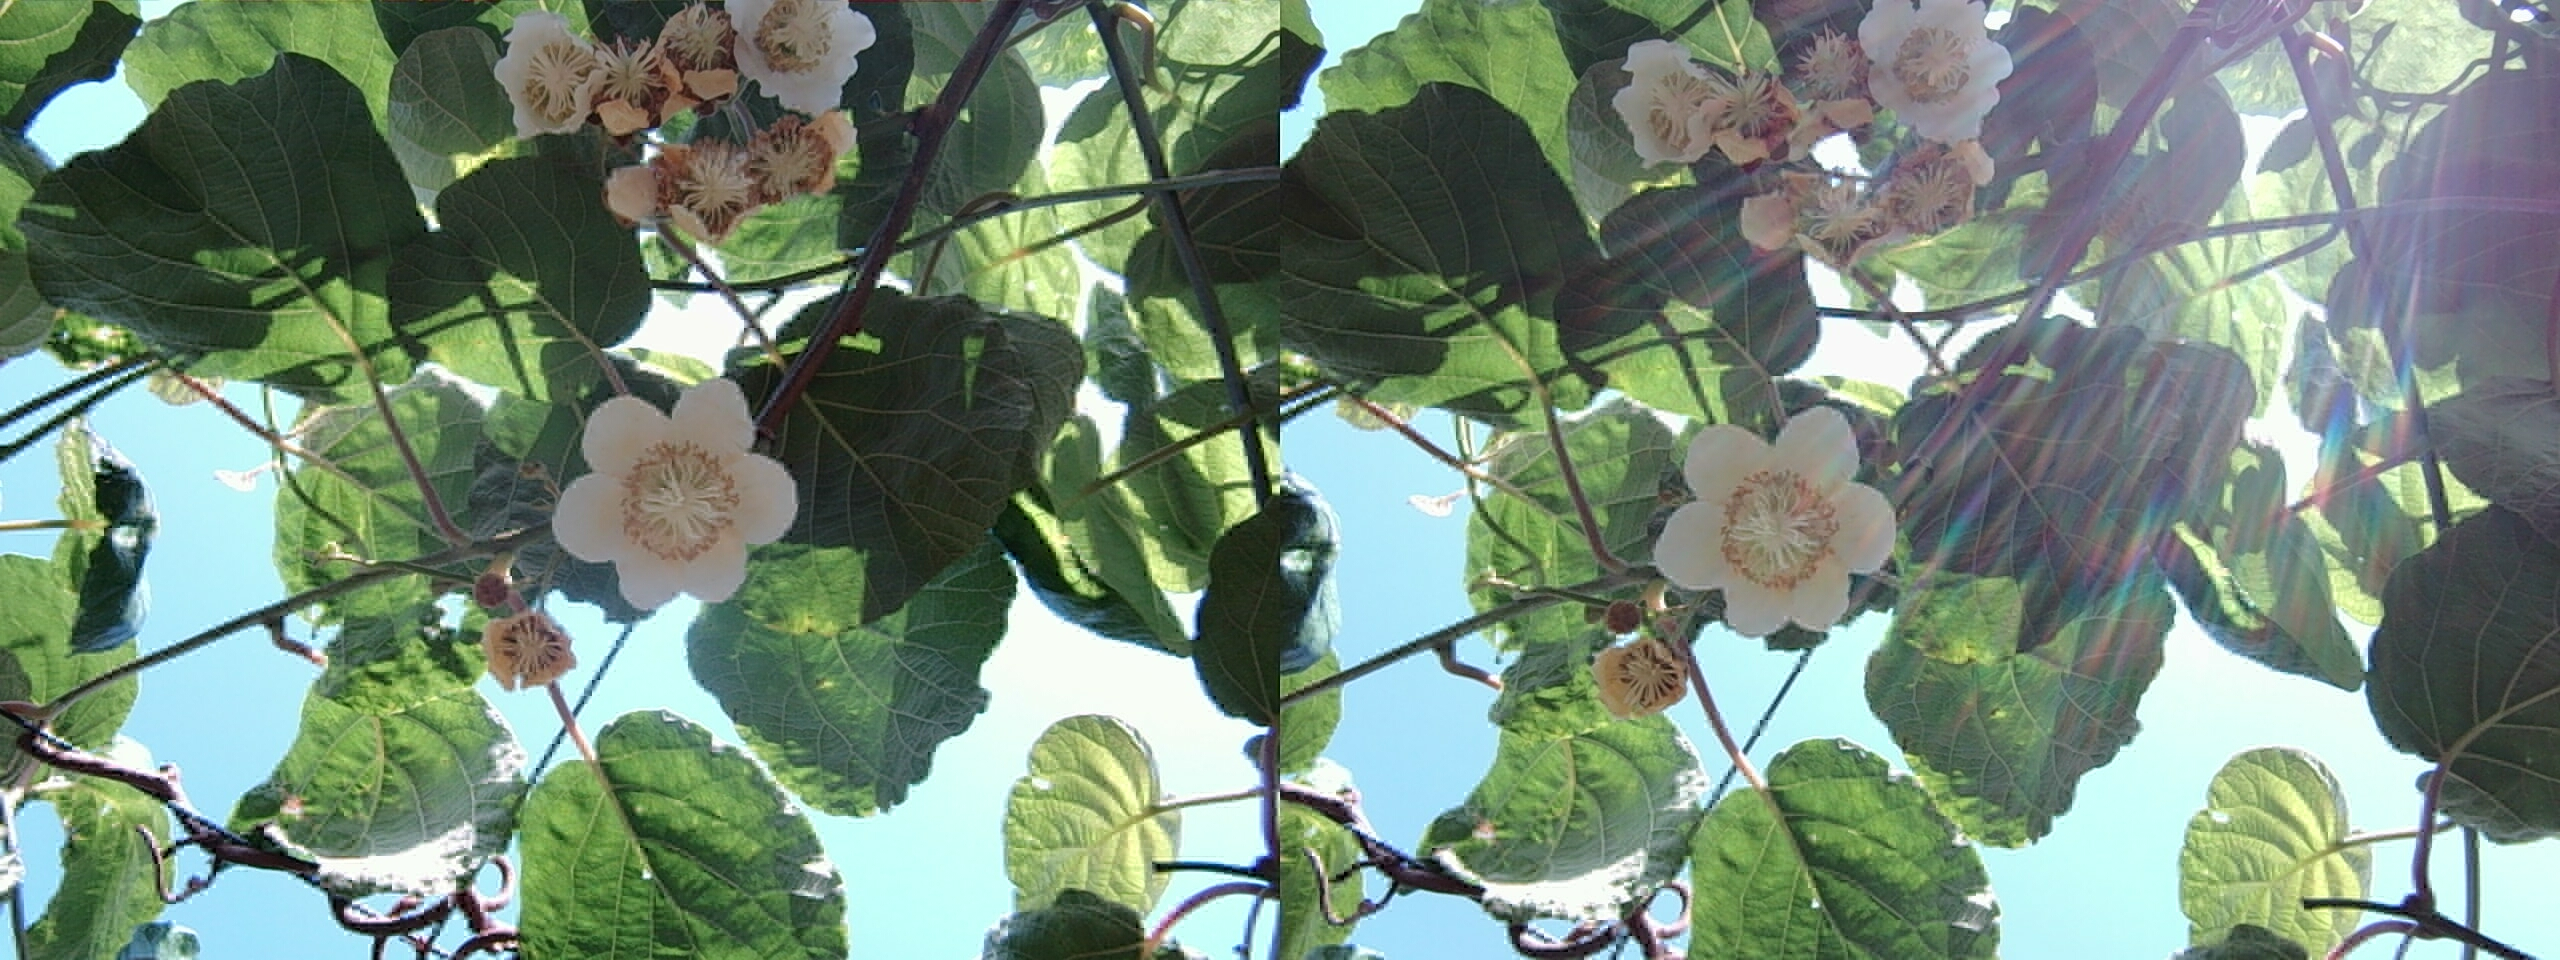flower: (552, 376, 793, 611), (1647, 405, 1892, 637), (601, 95, 846, 250), (1605, 38, 1851, 167), (503, 15, 720, 129), (1858, 2, 2010, 132), (733, 2, 872, 104)
